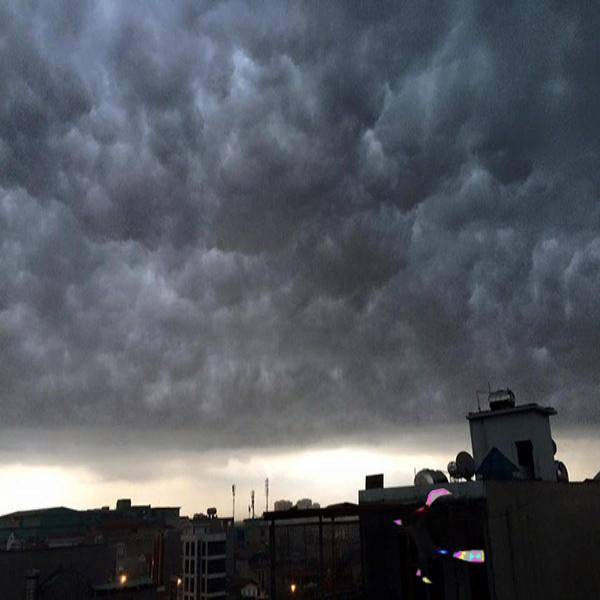drone: (386, 486, 488, 588)
